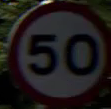Speed limit: (9, 4, 104, 97)
